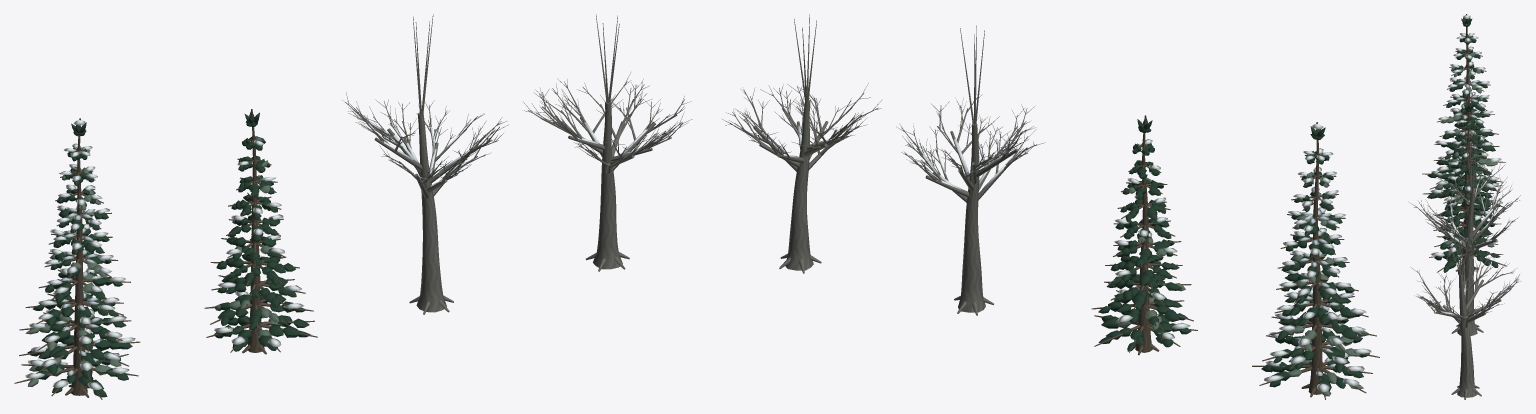
Rendered from PZ_SnowTrees_Kit.glb.
3 views of the same model, side by side, from view 1: azimuth 30°, elevation 25°; view 2: azimuth 150°, elevation 25°; view 3: azimuth 270°, elevation 25° (orthographic). The views are drawn at different scales.
Visible parts, largest first — view 1: RENDER_Pine_LightSnow_FoliageSprays_Tree_Needles_Evergreen, RENDER_Pine_HeavySnow_FoliageSprays_Tree_Needles_Evergreen, RENDER_Pine_HeavySnow_BoughSnowCaps_Tree_Snow_Fresh, RENDER_BareOak_HeavySnow_Trunk_Deciduous_Tree_Bark_Deciduous, RENDER_BareOak_LightSnow_Trunk_Deciduous_Tree_Bark_Deciduous, RENDER_Pine_HeavySnow_WoodyBoughs_Tree_Bark_Pine, RENDER_Pine_HeavySnow_FoliageSprays_Tree_Needles_Frosted, RENDER_Pine_LightSnow_WoodyBoughs_Tree_Bark_Pine, RENDER_BareOak_LightSnow_TertiaryTwigs_Tree_Bark_Deciduous, RENDER_Pine_LightSnow_BoughSnowCaps_Tree_Snow_Fresh, RENDER_Pine_HeavySnow_Trunk_Pine_Tree_Bark_Pine, RENDER_BareOak_HeavySnow_TertiaryTwigs_Tree_Bark_Deciduous (+10 smaller); view 2: RENDER_Pine_LightSnow_FoliageSprays_Tree_Needles_Evergreen, RENDER_Pine_HeavySnow_FoliageSprays_Tree_Needles_Evergreen, RENDER_Pine_HeavySnow_BoughSnowCaps_Tree_Snow_Fresh, RENDER_BareOak_HeavySnow_Trunk_Deciduous_Tree_Bark_Deciduous, RENDER_BareOak_LightSnow_Trunk_Deciduous_Tree_Bark_Deciduous, RENDER_Pine_HeavySnow_WoodyBoughs_Tree_Bark_Pine, RENDER_Pine_HeavySnow_FoliageSprays_Tree_Needles_Frosted, RENDER_Pine_LightSnow_WoodyBoughs_Tree_Bark_Pine, RENDER_Pine_HeavySnow_Trunk_Pine_Tree_Bark_Pine, RENDER_BareOak_LightSnow_TertiaryTwigs_Tree_Bark_Deciduous, RENDER_BareOak_HeavySnow_TertiaryTwigs_Tree_Bark_Deciduous, RENDER_Pine_LightSnow_Trunk_Pine_Tree_Bark_Pine (+9 smaller); view 3: RENDER_Pine_LightSnow_FoliageSprays_Tree_Needles_Evergreen, RENDER_Pine_HeavySnow_FoliageSprays_Tree_Needles_Evergreen, RENDER_Pine_HeavySnow_BoughSnowCaps_Tree_Snow_Fresh, RENDER_BareOak_LightSnow_Trunk_Deciduous_Tree_Bark_Deciduous, RENDER_BareOak_HeavySnow_Trunk_Deciduous_Tree_Bark_Deciduous, RENDER_BareOak_HeavySnow_TertiaryTwigs_Tree_Bark_Deciduous, RENDER_BareOak_LightSnow_TertiaryTwigs_Tree_Bark_Deciduous, RENDER_Pine_HeavySnow_FoliageSprays_Tree_Needles_Frosted, RENDER_Pine_LightSnow_WoodyBoughs_Tree_Bark_Pine, RENDER_Pine_HeavySnow_WoodyBoughs_Tree_Bark_Pine, RENDER_BareOak_LightSnow_SecondaryLimbs_Tree_Bark_Deciduous, RENDER_BareOak_LightSnow_TerminalTwigs_Tree_Bark_Deciduous (+12 smaller).
Part boxes in pixels (x1=…): RENDER_Pine_LightSnow_FoliageSprays_Tree_Needles_Evergreen: x1=214, y1=111, x2=310, y2=351; RENDER_Pine_HeavySnow_FoliageSprays_Tree_Needles_Evergreen: x1=27, y1=122, x2=132, y2=397; RENDER_Pine_HeavySnow_BoughSnowCaps_Tree_Snow_Fresh: x1=25, y1=143, x2=135, y2=389; RENDER_BareOak_HeavySnow_Trunk_Deciduous_Tree_Bark_Deciduous: x1=416, y1=112, x2=446, y2=312; RENDER_BareOak_LightSnow_Trunk_Deciduous_Tree_Bark_Deciduous: x1=593, y1=102, x2=622, y2=269; RENDER_Pine_HeavySnow_WoodyBoughs_Tree_Bark_Pine: x1=14, y1=128, x2=140, y2=399; RENDER_Pine_HeavySnow_FoliageSprays_Tree_Needles_Frosted: x1=25, y1=134, x2=121, y2=386; RENDER_Pine_LightSnow_WoodyBoughs_Tree_Bark_Pine: x1=204, y1=119, x2=317, y2=352; RENDER_BareOak_LightSnow_TertiaryTwigs_Tree_Bark_Deciduous: x1=528, y1=81, x2=684, y2=160; RENDER_Pine_LightSnow_BoughSnowCaps_Tree_Snow_Fresh: x1=214, y1=140, x2=303, y2=346; RENDER_Pine_HeavySnow_Trunk_Pine_Tree_Bark_Pine: x1=71, y1=118, x2=87, y2=395; RENDER_BareOak_HeavySnow_TertiaryTwigs_Tree_Bark_Deciduous: x1=345, y1=101, x2=501, y2=180; RENDER_Pine_LightSnow_FoliageSprays_Tree_Needles_Evergreen: x1=1098, y1=118, x2=1191, y2=351; RENDER_Pine_HeavySnow_FoliageSprays_Tree_Needles_Evergreen: x1=1261, y1=126, x2=1369, y2=390; RENDER_Pine_HeavySnow_BoughSnowCaps_Tree_Snow_Fresh: x1=1264, y1=148, x2=1371, y2=392; RENDER_BareOak_HeavySnow_Trunk_Deciduous_Tree_Bark_Deciduous: x1=958, y1=123, x2=985, y2=312; RENDER_BareOak_LightSnow_Trunk_Deciduous_Tree_Bark_Deciduous: x1=785, y1=100, x2=813, y2=270; RENDER_Pine_HeavySnow_WoodyBoughs_Tree_Bark_Pine: x1=1252, y1=132, x2=1379, y2=399; RENDER_Pine_HeavySnow_FoliageSprays_Tree_Needles_Frosted: x1=1283, y1=137, x2=1368, y2=396; RENDER_Pine_LightSnow_WoodyBoughs_Tree_Bark_Pine: x1=1091, y1=125, x2=1197, y2=352; RENDER_Pine_HeavySnow_Trunk_Pine_Tree_Bark_Pine: x1=1308, y1=122, x2=1322, y2=394; RENDER_BareOak_LightSnow_TertiaryTwigs_Tree_Bark_Deciduous: x1=727, y1=85, x2=878, y2=154; RENDER_BareOak_HeavySnow_TertiaryTwigs_Tree_Bark_Deciduous: x1=901, y1=97, x2=1036, y2=174; RENDER_Pine_LightSnow_Trunk_Pine_Tree_Bark_Pine: x1=1135, y1=115, x2=1152, y2=352; RENDER_Pine_LightSnow_FoliageSprays_Tree_Needles_Evergreen: x1=1434, y1=101, x2=1500, y2=274; RENDER_Pine_HeavySnow_FoliageSprays_Tree_Needles_Evergreen: x1=1427, y1=17, x2=1500, y2=214; RENDER_Pine_HeavySnow_BoughSnowCaps_Tree_Snow_Fresh: x1=1430, y1=33, x2=1502, y2=205; RENDER_BareOak_LightSnow_Trunk_Deciduous_Tree_Bark_Deciduous: x1=1457, y1=273, x2=1477, y2=397; RENDER_BareOak_HeavySnow_Trunk_Deciduous_Tree_Bark_Deciduous: x1=1457, y1=192, x2=1477, y2=335; RENDER_BareOak_HeavySnow_TertiaryTwigs_Tree_Bark_Deciduous: x1=1416, y1=164, x2=1518, y2=249; RENDER_BareOak_LightSnow_TertiaryTwigs_Tree_Bark_Deciduous: x1=1417, y1=249, x2=1518, y2=316; RENDER_Pine_HeavySnow_FoliageSprays_Tree_Needles_Frosted: x1=1435, y1=24, x2=1497, y2=203; RENDER_Pine_LightSnow_WoodyBoughs_Tree_Bark_Pine: x1=1429, y1=121, x2=1506, y2=272; RENDER_Pine_HeavySnow_WoodyBoughs_Tree_Bark_Pine: x1=1422, y1=36, x2=1505, y2=211; RENDER_BareOak_LightSnow_SecondaryLimbs_Tree_Bark_Deciduous: x1=1422, y1=259, x2=1511, y2=320; RENDER_BareOak_LightSnow_TerminalTwigs_Tree_Bark_Deciduous: x1=1411, y1=244, x2=1520, y2=315.
Size of the model in its own units: 26.1 by 10.89 by 5.49.
6 materials, 6 textured.
